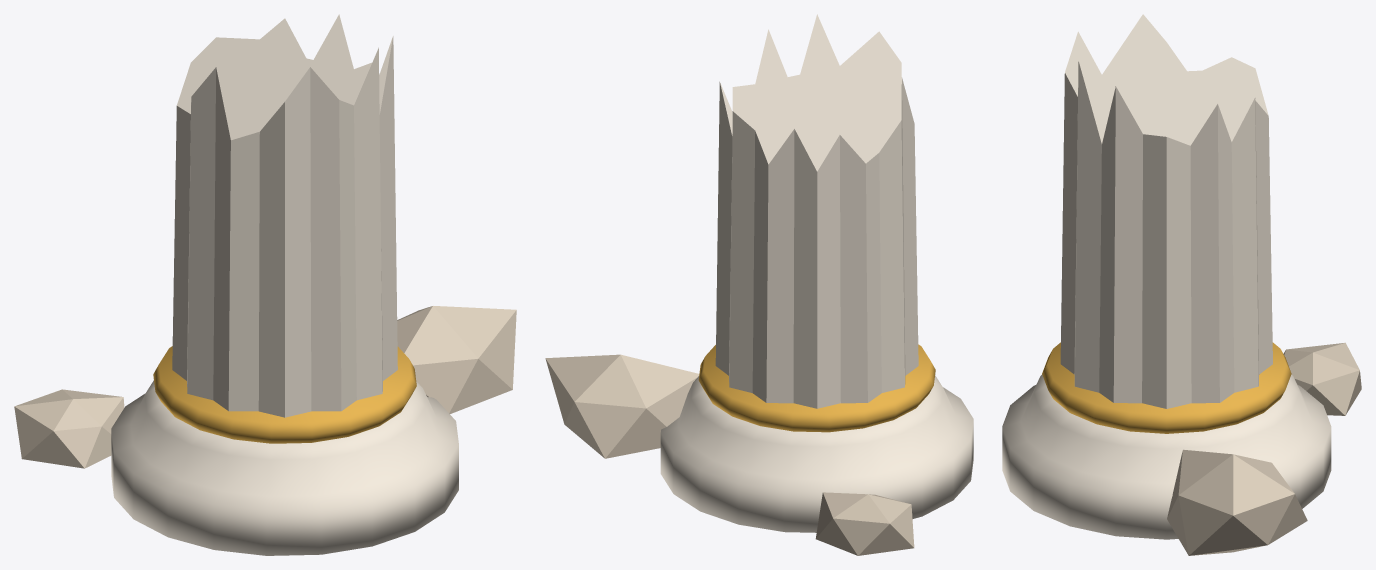
Rendered from column_broken.glb.
3 renders of one model, left to right at view 1: azimuth 30°, elevation 25°; view 2: azimuth 150°, elevation 25°; view 3: azimuth 270°, elevation 25°, orthographic. The views are drawn at different scales.
Visible parts, largest first — view 1: shaft, base, chunk, ring, chunk2; view 2: shaft, base, chunk, ring, chunk2; view 3: shaft, base, chunk, ring, chunk2.
Part boxes in pixels (x1=…): shaft: x1=172, y1=14, x2=397, y2=417; base: x1=111, y1=380, x2=458, y2=555; chunk: x1=397, y1=306, x2=516, y2=413; ring: x1=153, y1=346, x2=416, y2=443; chunk2: x1=14, y1=389, x2=124, y2=468; shaft: x1=715, y1=14, x2=918, y2=408; base: x1=660, y1=375, x2=973, y2=532; chunk: x1=545, y1=354, x2=699, y2=458; ring: x1=698, y1=344, x2=935, y2=432; chunk2: x1=815, y1=492, x2=914, y2=555; shaft: x1=1060, y1=14, x2=1272, y2=408; base: x1=1002, y1=374, x2=1331, y2=539; chunk: x1=1167, y1=449, x2=1307, y2=555; ring: x1=1042, y1=342, x2=1291, y2=433; chunk2: x1=1283, y1=342, x2=1361, y2=415.
Size of the model in its own units: 1.85 by 1.82 by 1.35.
